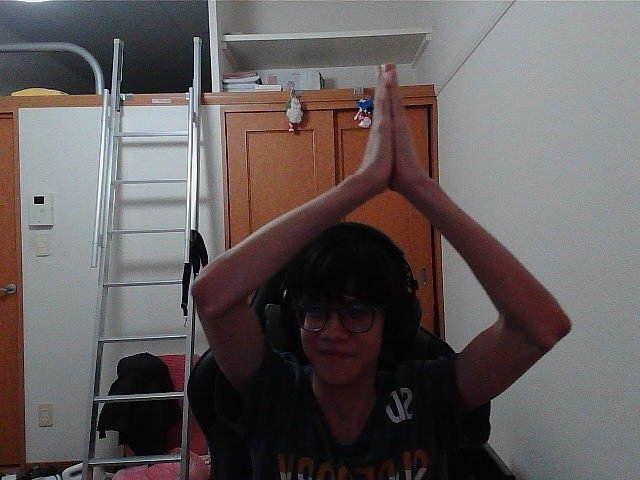pray: (379, 76, 384, 170)
